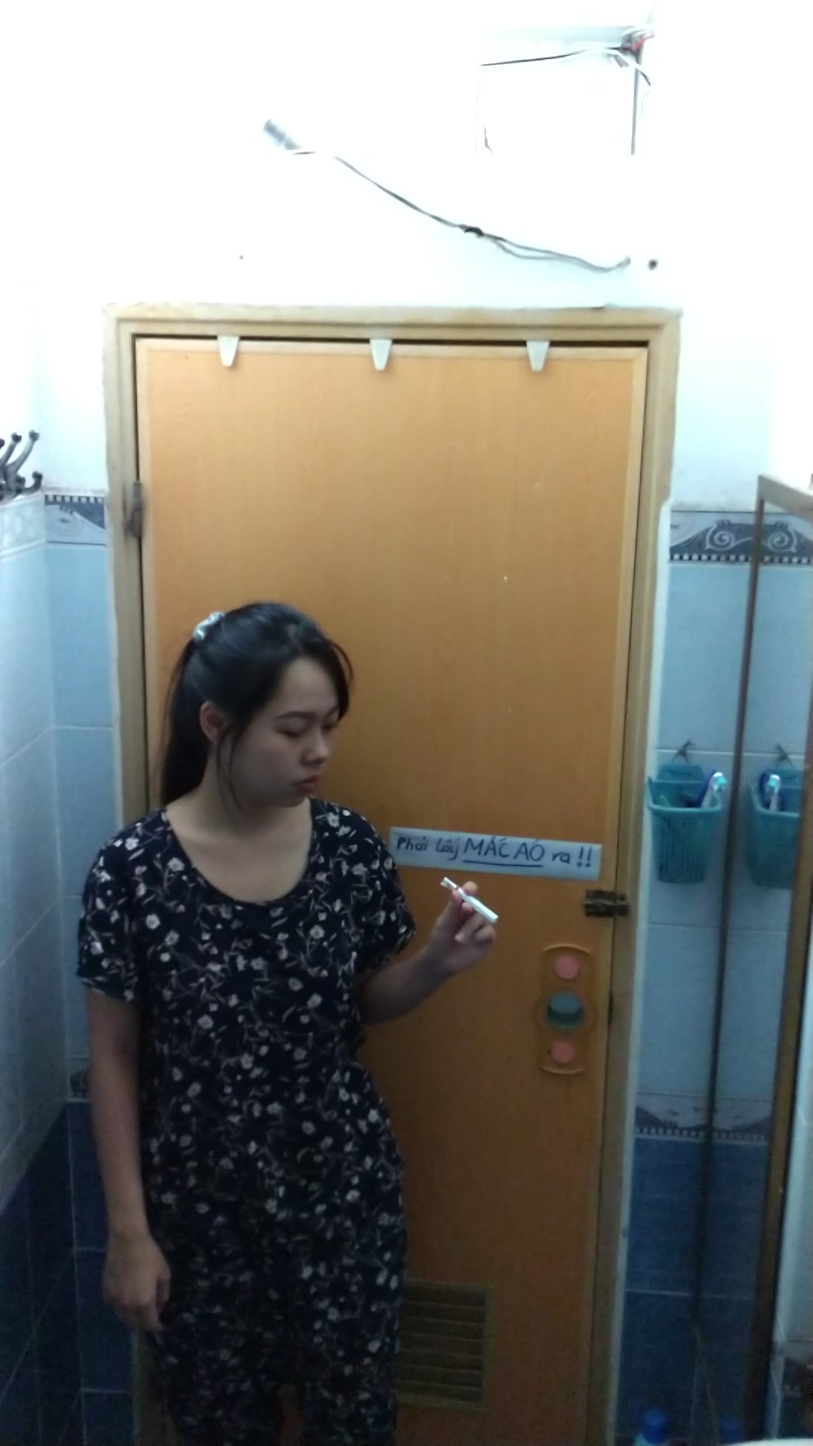cigarette: (458, 891, 505, 929)
person: (67, 584, 505, 1446)
